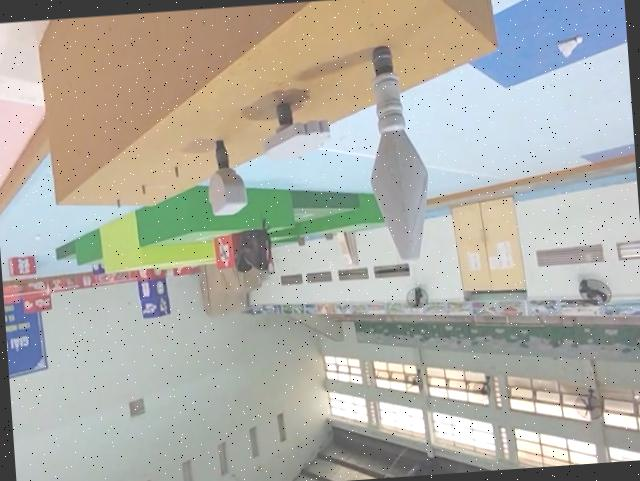Fist: (205, 136, 247, 216)
Hand: (258, 94, 333, 162)
Sph: (357, 34, 435, 265)
